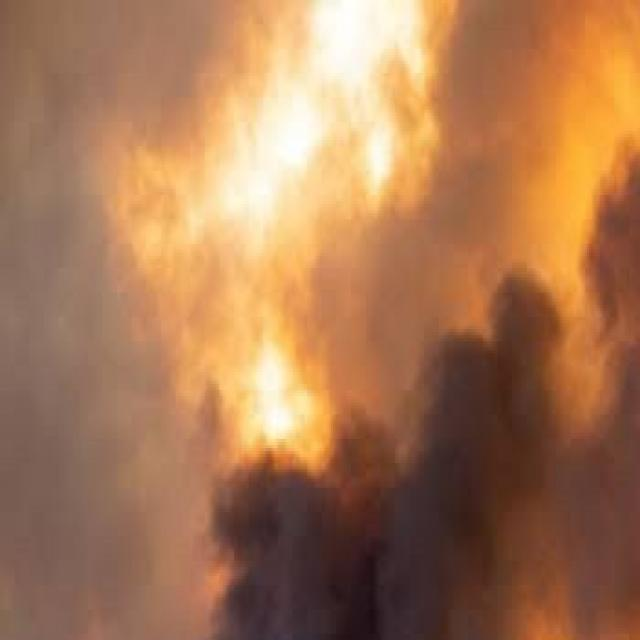Fire: (175, 289, 578, 640)
